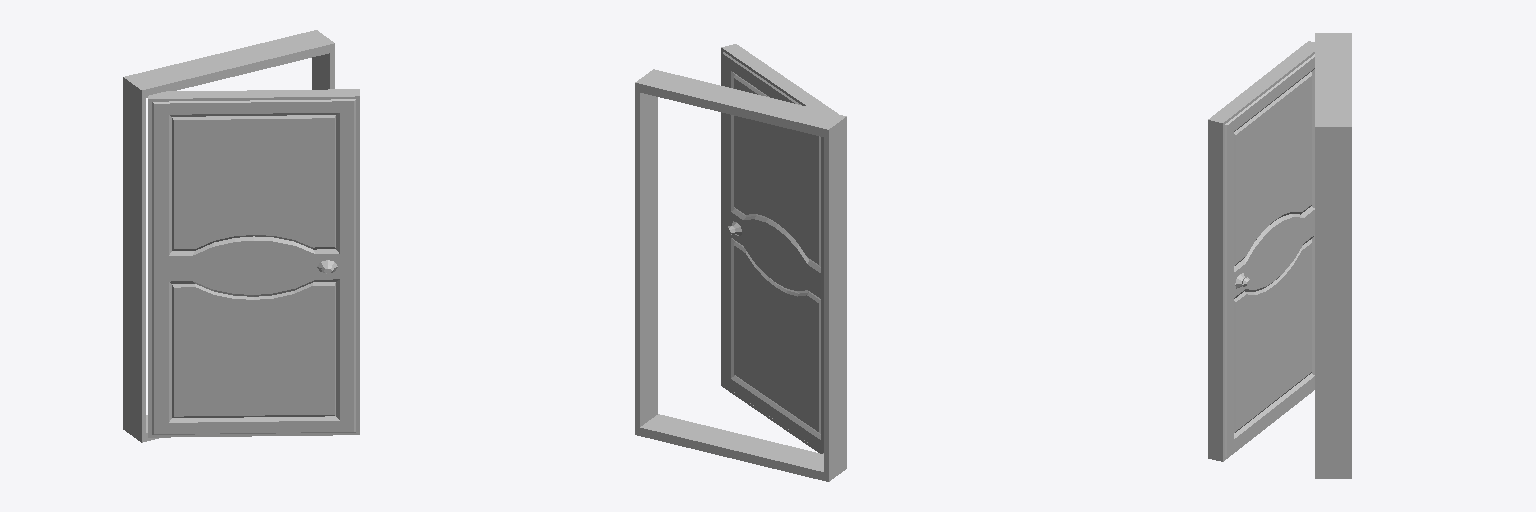
File: drzwiok_000026.obj
3 renders of one model, left to right at view 1: azimuth 30°, elevation 25°; view 2: azimuth 150°, elevation 25°; view 3: azimuth 270°, elevation 25°, orthographic.
Parts seen in each view (by area): view 1: Door_4.001_Cube.001, Kostka; view 2: Door_4.001_Cube.001, Kostka; view 3: Door_4.001_Cube.001, Kostka.
Part boxes in pixels (x1,y1,x2,y2): Door_4.001_Cube.001: (148,89,359,437); Kostka: (123,30,334,442); Door_4.001_Cube.001: (721,44,837,453); Kostka: (635,69,846,481); Door_4.001_Cube.001: (1208,41,1314,461); Kostka: (1315,33,1351,478).
Size of the model in its own units: 0.7416 by 1.29 by 0.4793.